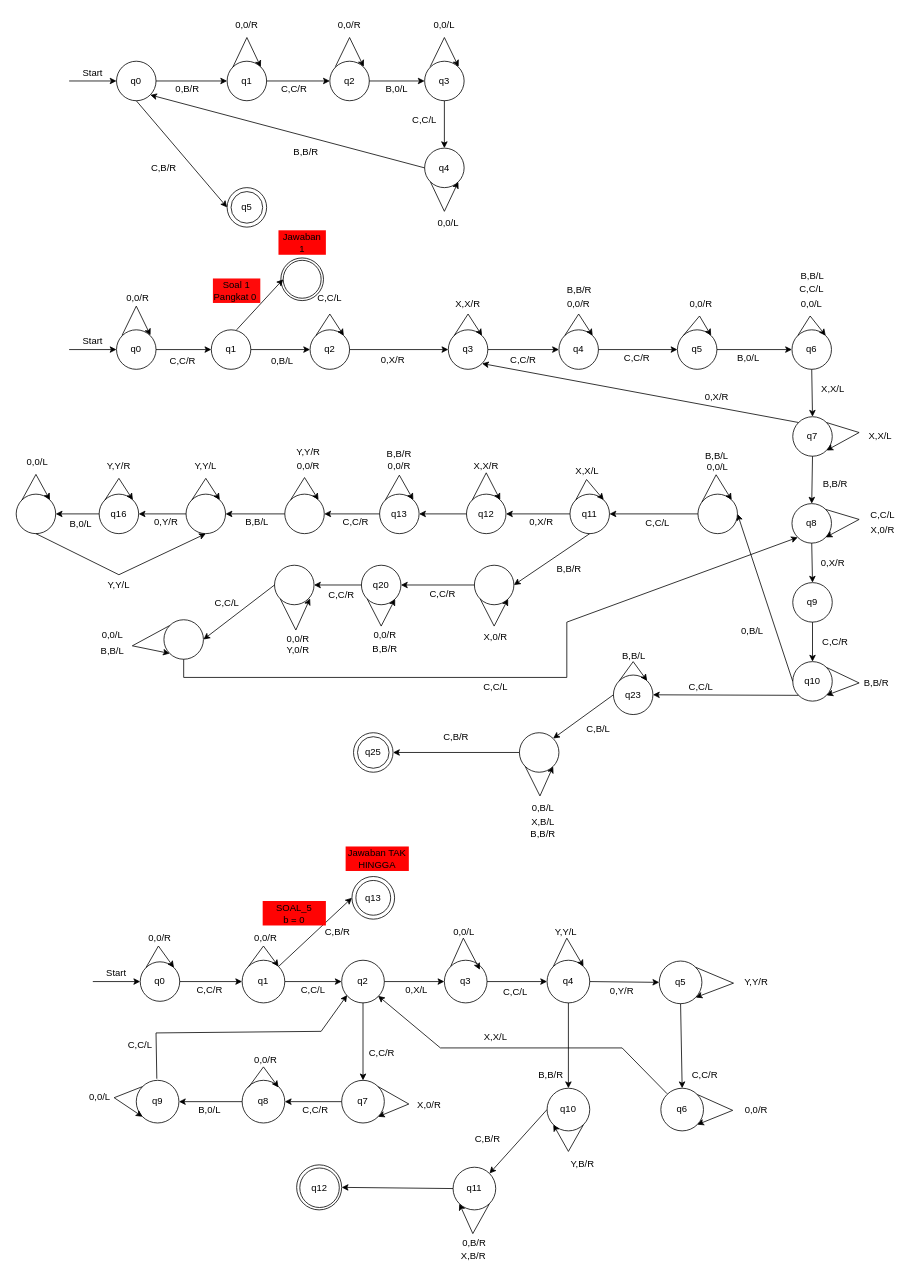
Image size: 920x1282. Some labels were removed from this diagram. Each missing label, with the box of its shape:
q14: (284, 493, 324, 534)
q15: (185, 493, 226, 534)
q17: (15, 493, 56, 534)
q18: (697, 493, 737, 534)
q19: (474, 564, 514, 605)
q21: (274, 564, 314, 605)
q22: (163, 619, 203, 659)
q24: (519, 732, 559, 772)
q26: (282, 260, 321, 298)
